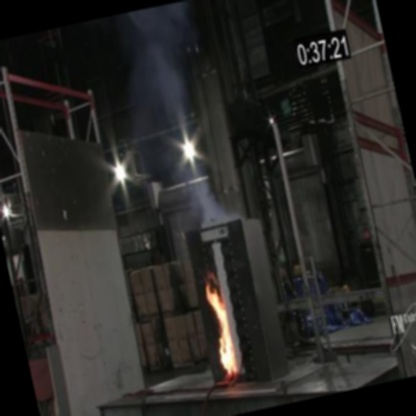fire: (196, 274, 246, 378)
